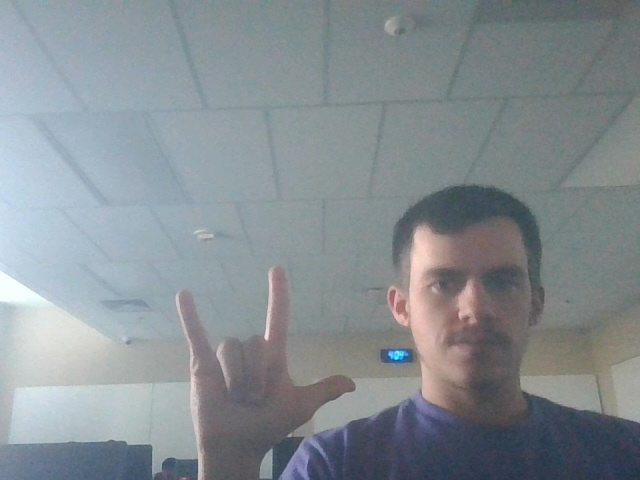iloveyou: (151, 252, 364, 458)
